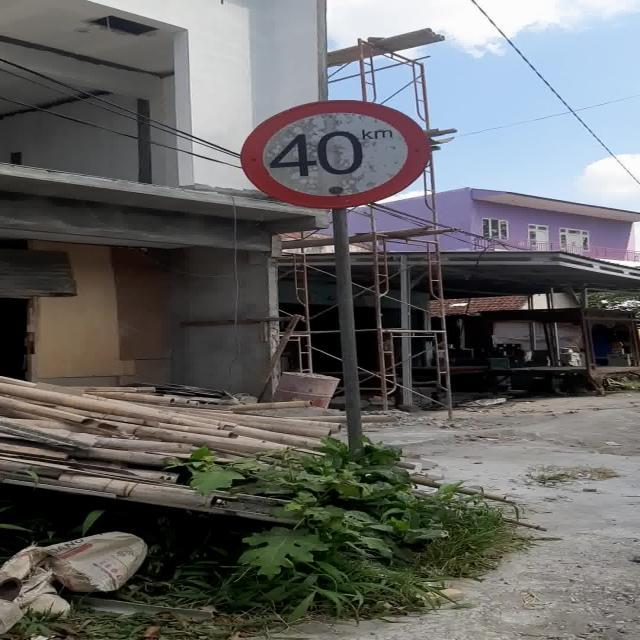Kecepatan Maks. 40 km: (241, 98, 431, 209)
